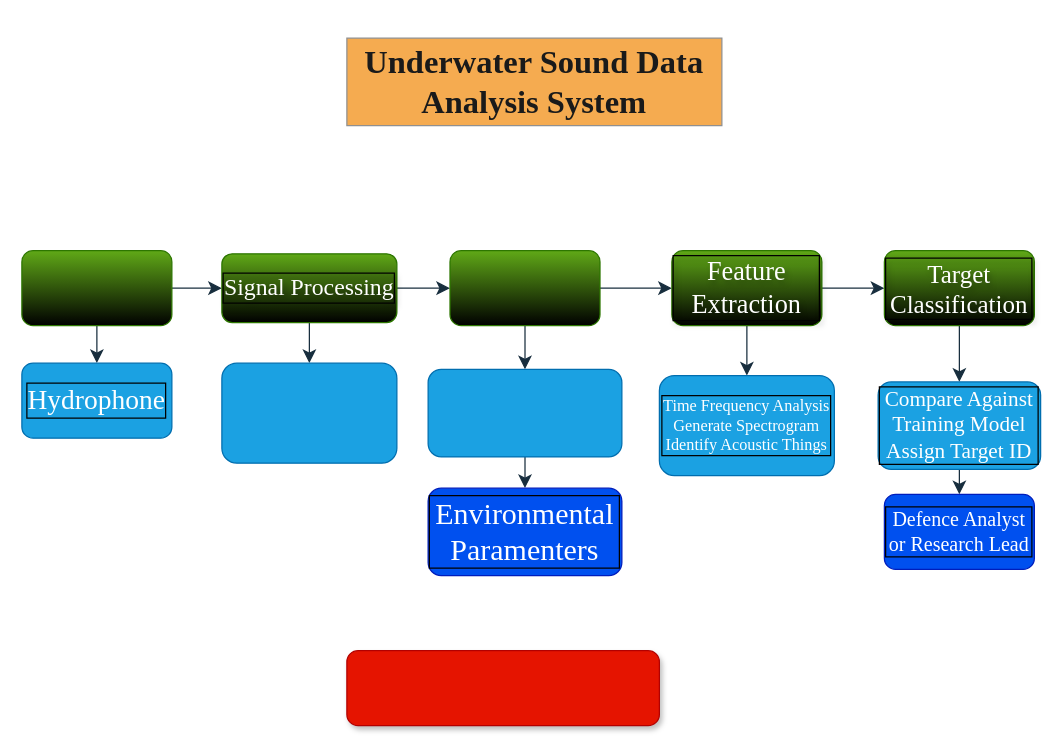
This 1063x756 diagram has some shape labels left out. The centre of each missing label's shape, as x and y in pixels:
"Beamforming & Arrival Estimation" belongs at point (524, 287).
"Data Flow Diagram" belongs at point (504, 689).
"Data Source" belongs at point (96, 287).
"Delay & Sum Beamforming Steer Array Toward Target Estimate TDOA Peaks" belongs at point (524, 412).
"Digitization (ADC) Filtering (Remove Noise) Format Coversion (WAV)" belongs at point (309, 412).
